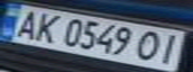0: (54, 16, 87, 48)
4: (97, 21, 118, 55)
5: (75, 19, 100, 52)
9: (112, 25, 139, 58)
A: (6, 7, 45, 40)
I: (151, 31, 187, 64)
K: (27, 11, 66, 44)
O: (133, 28, 166, 63)
